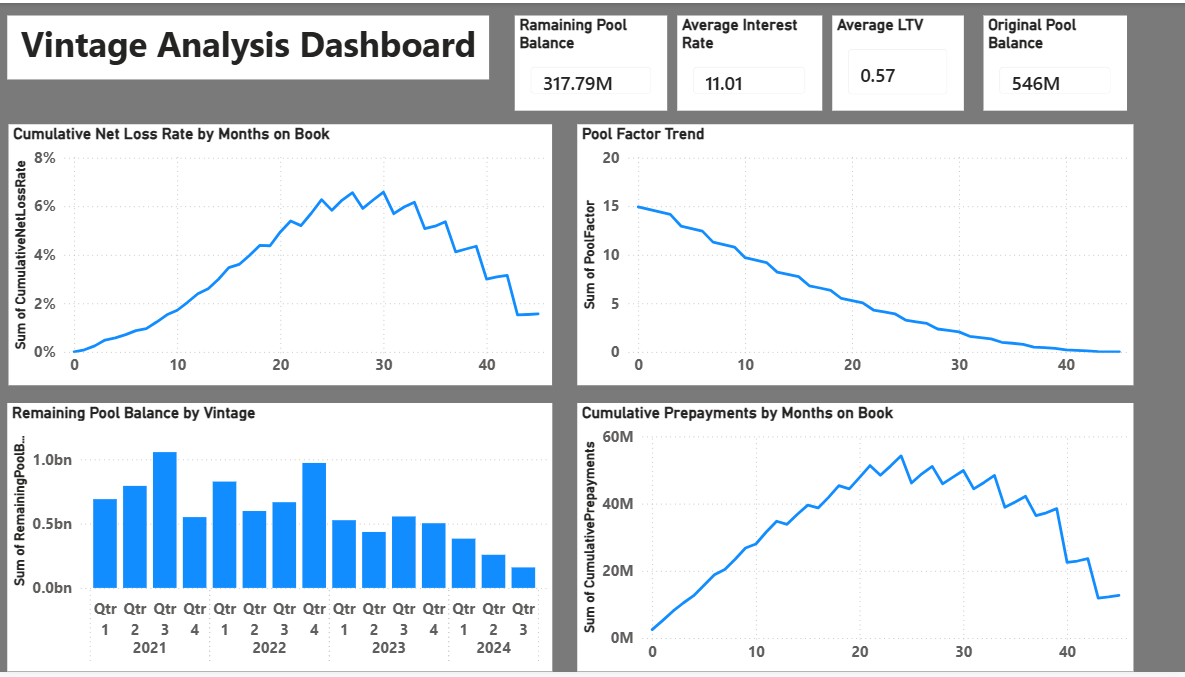

The page's visual inventory and layout, read from the dashboard file:
{"tool":"powerbi","page":{"name":"vintage Analysis Dashboard","canvas":[1280,720],"ordinal":3},"visuals":[{"type":"textbox","box":[12.3,13.7,518.7,68.6],"z":0},{"type":"cardVisual","title":"Ramaining Pool Balance","fields":{"Data":["Sum(Loans.CurrentBalance)"]},"box":[558.1,13.4,164.1,102.2],"z":1000},{"type":"cardVisual","title":"Original Pool Balance","fields":{"Data":["Sum(Loans.OriginalLoanAmount)"]},"box":[1062.4,13.4,154.7,102.2],"z":2000},{"type":"cardVisual","title":"Average Interest Rate","fields":{"Data":["Loans.Average Interest Rate"]},"box":[732.9,13.4,156,102.2],"z":3000},{"type":"cardVisual","title":"Average LTV","fields":{"Data":["Loans.Average LTV"]},"box":[899.7,13.4,141.2,102.2],"z":4000},{"type":"lineChart","title":"Cumulative Net Loss Rate by Months on Book","fields":{"Category":["static_pool_vintage_data.MonthsOnBook"],"Y":["Sum(static_pool_vintage_data.CumulativeNetLossRate)"]},"box":[13.4,130.4,585,281.1],"z":5000},{"type":"clusteredColumnChart","title":"Remaining Pool Balance by Vintage","fields":{"Y":["Sum(static_pool_vintage_data.RemainingPoolBalance)"],"Category":["static_pool_vintage_data.VintageStartDate.Variation.Date Hierarchy.Year","static_pool_vintage_data.VintageStartDate.Variation.Date Hierarchy.Quarter"]},"box":[12.1,430.3,586.3,289.1],"z":6000},{"type":"lineChart","title":"Pool Factor Trend","fields":{"Category":["static_pool_vintage_data.MonthsOnBook"],"Y":["Sum(static_pool_vintage_data.PoolFactor)"]},"box":[625.3,130.4,598.4,281.1],"z":6001},{"type":"lineChart","title":"Cumulative Prepayments by Months on Book","fields":{"Category":["static_pool_vintage_data.MonthsOnBook"],"Y":["Sum(static_pool_vintage_data.CumulativePrepayments)"]},"box":[625,430,598,289],"z":6002}]}

Visuals, with their boxes in screenshot pixels (x1, y1, x2, y2), scaled from the page's 1280x720 canvas onto the 1185x677 screenshot:
textbox: (x1=11, y1=13, x2=492, y2=77)
"Ramaining Pool Balance" cardVisual: (x1=517, y1=13, x2=669, y2=109)
"Original Pool Balance" cardVisual: (x1=984, y1=13, x2=1127, y2=109)
"Average Interest Rate" cardVisual: (x1=679, y1=13, x2=823, y2=109)
"Average LTV" cardVisual: (x1=833, y1=13, x2=964, y2=109)
"Cumulative Net Loss Rate by Months on Book" lineChart: (x1=12, y1=123, x2=554, y2=387)
"Remaining Pool Balance by Vintage" clusteredColumnChart: (x1=11, y1=405, x2=554, y2=676)
"Pool Factor Trend" lineChart: (x1=579, y1=123, x2=1133, y2=387)
"Cumulative Prepayments by Months on Book" lineChart: (x1=579, y1=404, x2=1132, y2=676)
